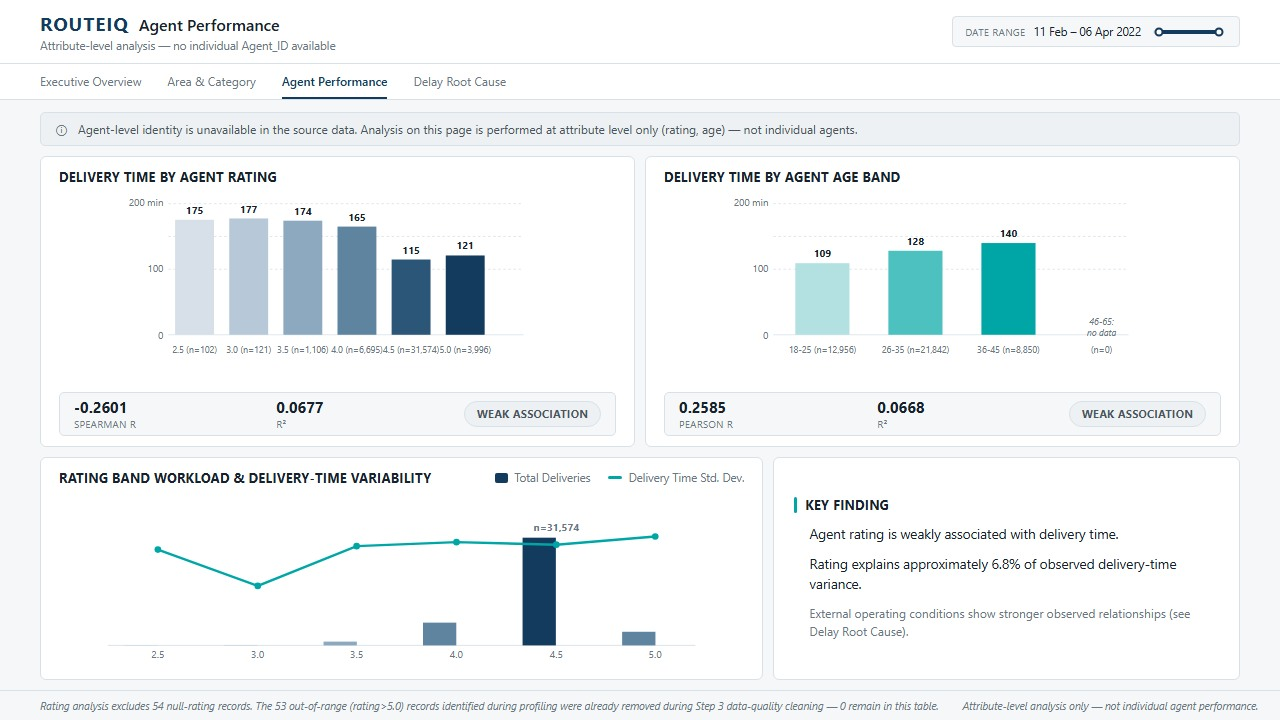

Layout of this report page (visuals, bound fields, positions):
{"tool":"powerbi","page":{"name":"Agent Performance","canvas":[1280,720],"ordinal":2},"visuals":[{"type":"textbox","title":"   KEY FINDING     Agent rating is weakly associated with delivery time.     Rating explains approximately 6.8% of observed delivery-time variance.     External operating conditions show stronger obse","box":[831.4,557,410.5,139.5],"z":0},{"type":"textbox","box":[48.8,37.2,374.4,51.2],"z":1000},{"type":"textbox","box":[48.8,114,1205.8,30.2],"z":2000},{"type":"slicer","fields":{"Values":["DimDate.full_date"]},"box":[1023.3,11.6,231.4,87.2],"z":3000},{"type":"clusteredColumnChart","title":"   DELIVERY TIME BY AGENT RATING","fields":{"Category":["DimAgent.Rating Band"],"Y":["FactDelivery.Average Delivery Time (mins)"]},"box":[48.8,173.3,632.3,309.5],"z":4000},{"type":"textbox","box":[45.3,495.4,624.4,44],"z":5000},{"type":"clusteredColumnChart","title":"DELIVERY TIME BY AGENT AGE BAND","fields":{"Category":["DimAgent.Age Band"],"Y":["FactDelivery.Average Delivery Time (mins)"]},"box":[801.4,171.4,453.3,311.2],"z":6000},{"type":"textbox","box":[734.9,489.5,535.8,50],"z":7000},{"type":"lineClusteredColumnComboChart","title":"RATING BAND WORKLOAD & DELIVERY-TIME VARIABILITY","fields":{"Category":["DimAgent.Rating Band"],"Y":["FactDelivery.Total Deliveries"],"Y2":["FactDelivery.Delivery Time Std Dev"]},"box":[45,557,624,150],"z":8000}]}

Visuals, with their boxes on the page's 1280x720 design canvas (x1, y1, x2, y2). These are canvas units, not pixel positions in the 1280x720 screenshot, which may show the page scaled, cropped or inside an application window:
"   KEY FINDING     Agent rating is weakly associated with delivery time.     Rating explains approximately 6.8% of observed delivery-time variance.     External operating conditions show stronger obse" textbox: <region>831, 557, 1242, 696</region>
textbox: <region>49, 37, 423, 88</region>
textbox: <region>49, 114, 1255, 144</region>
slicer - DimDate.full_date: <region>1023, 12, 1255, 99</region>
"   DELIVERY TIME BY AGENT RATING" clusteredColumnChart: <region>49, 173, 681, 483</region>
textbox: <region>45, 495, 670, 539</region>
"DELIVERY TIME BY AGENT AGE BAND" clusteredColumnChart: <region>801, 171, 1255, 483</region>
textbox: <region>735, 490, 1271, 540</region>
"RATING BAND WORKLOAD & DELIVERY-TIME VARIABILITY" lineClusteredColumnComboChart: <region>45, 557, 669, 707</region>
